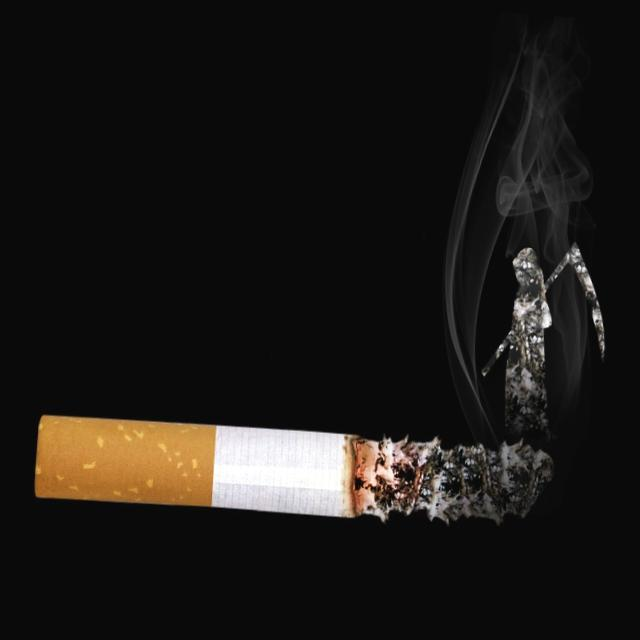cigarette: (28, 400, 426, 542)
